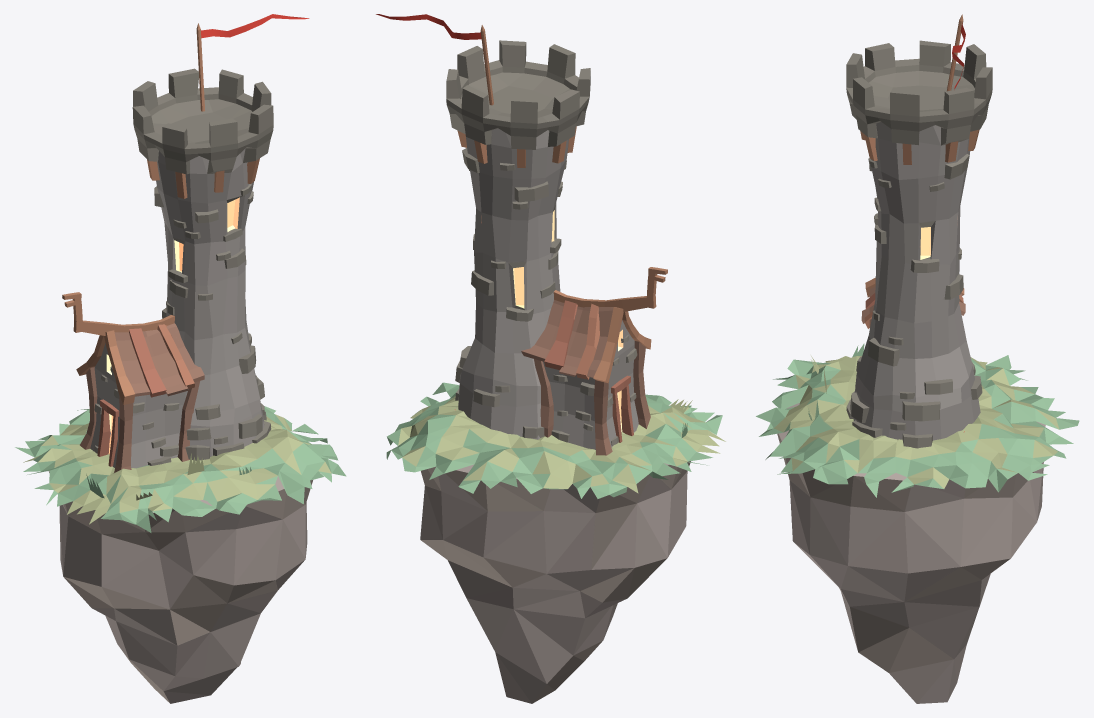
Rendered from castle-huIKT_lr.glb.
3 renders of one model, left to right at view 1: azimuth 30°, elevation 25°; view 2: azimuth 150°, elevation 25°; view 3: azimuth 270°, elevation 25°, orthographic. The views are drawn at different scales.
Parts seen in each view (by area): view 1: Object_3, Object_4; view 2: Object_3, Object_4; view 3: Object_3, Object_4.
Part boxes in pixels (bbox=[...]): Object_3: bbox=[15, 406, 346, 703]; Object_4: bbox=[62, 14, 309, 472]; Object_3: bbox=[386, 382, 725, 703]; Object_4: bbox=[376, 14, 667, 455]; Object_3: bbox=[756, 343, 1079, 703]; Object_4: bbox=[846, 14, 992, 448].
Size of the model in its own units: 3.84 by 8.13 by 3.43.
2 materials, 2 textured.
